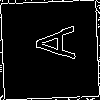A: (24, 25, 76, 61)
